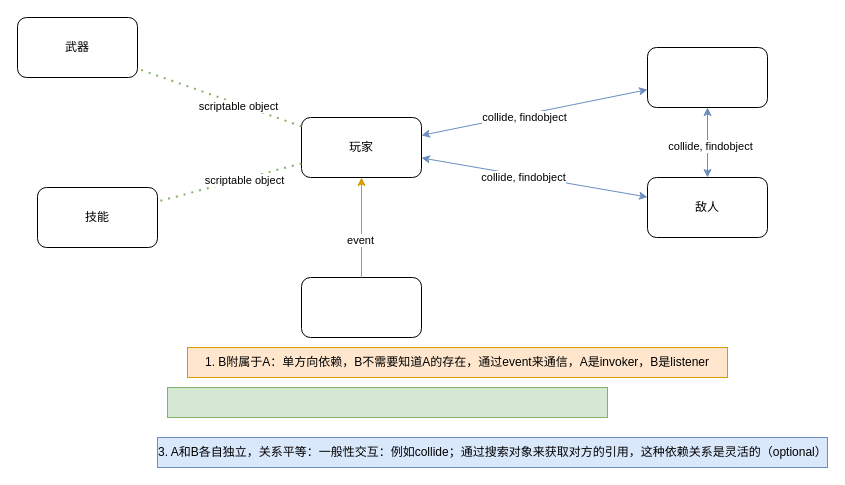
Some shapes in this 845 by 485 pixel diagram are drawn without their labels. Each missing label, with the box of its shape:
2. B是A的插件：B不关心主人，A负责调用B，A根据需要可以替换B: (166, 386, 608, 418)
信息显示: (300, 276, 422, 338)
地图: (646, 46, 768, 108)
